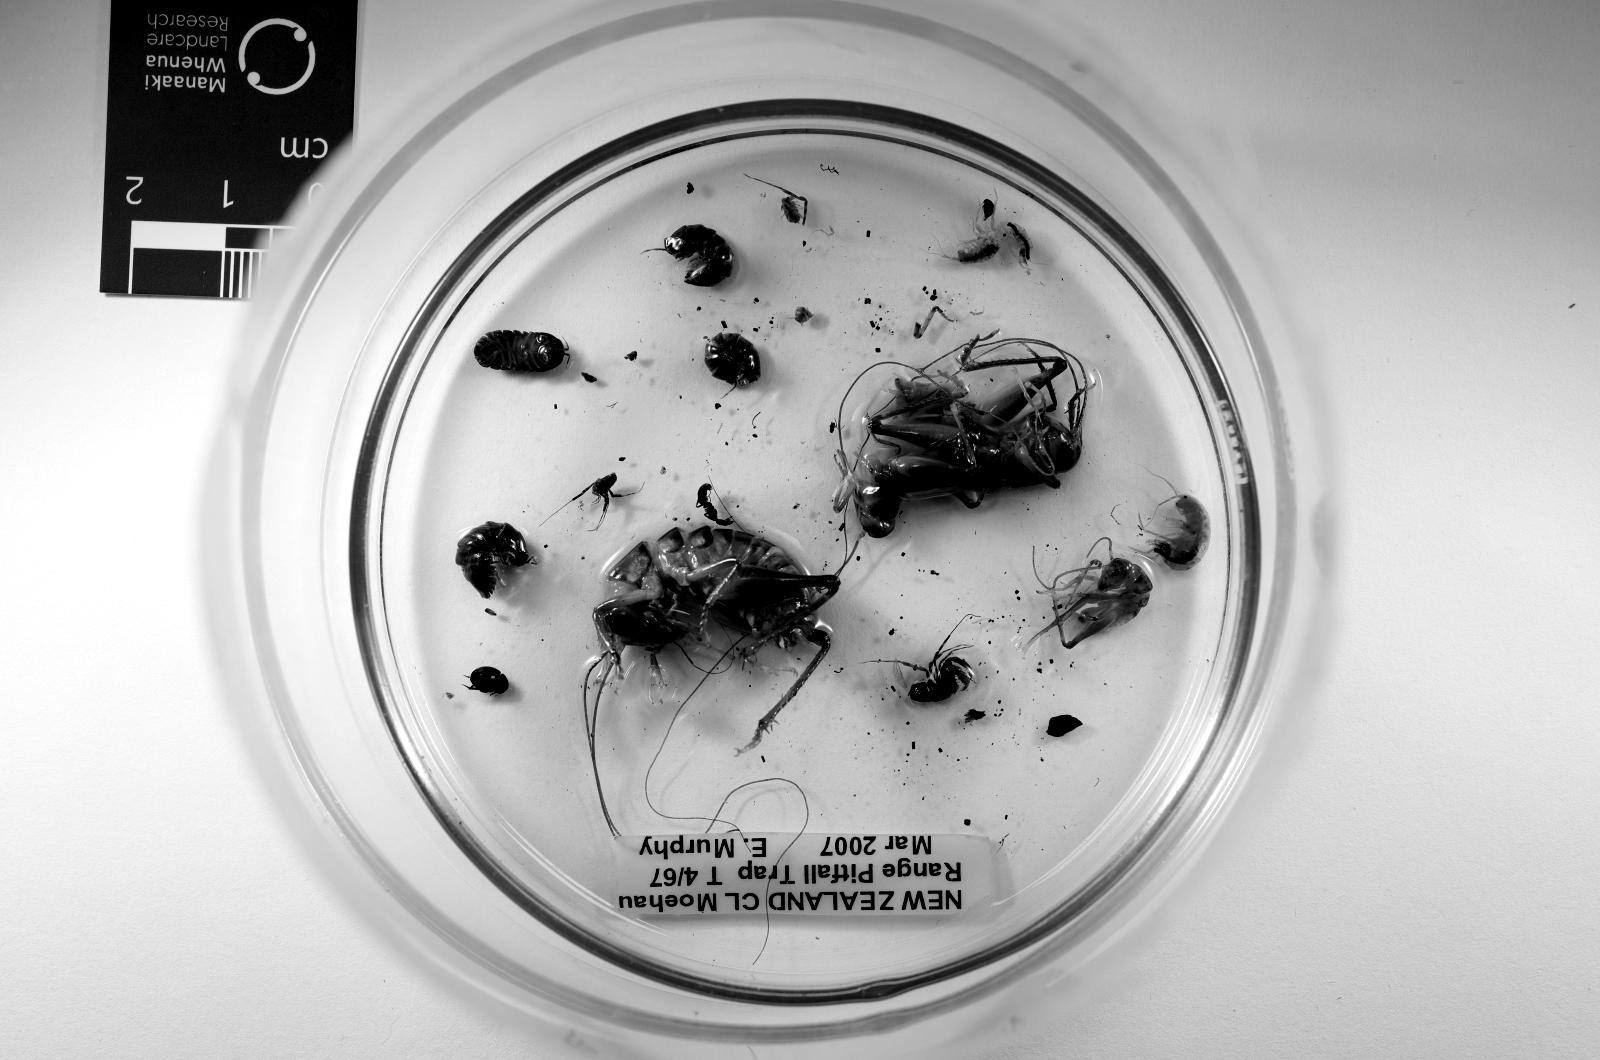amphipoda: (1141, 491, 1209, 571)
coleoptera: (469, 668, 509, 696)
formicidae: (697, 484, 731, 525)
isopoda: (456, 522, 534, 599), (662, 224, 734, 286), (475, 332, 569, 373), (706, 332, 759, 385)
opiliones: (891, 640, 975, 702), (572, 472, 622, 516)
orthoptera: (594, 522, 841, 752), (856, 335, 1088, 537), (1041, 556, 1153, 649)
